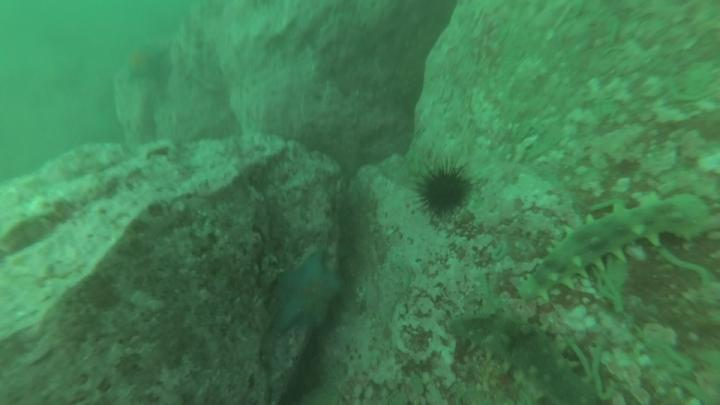echinus: (413, 157, 475, 219)
holothurian: (522, 191, 709, 309), (451, 300, 621, 405)
starfish: (271, 252, 347, 339)
